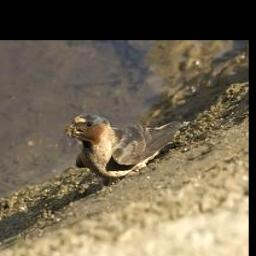Swallow: (65, 112, 185, 181)
